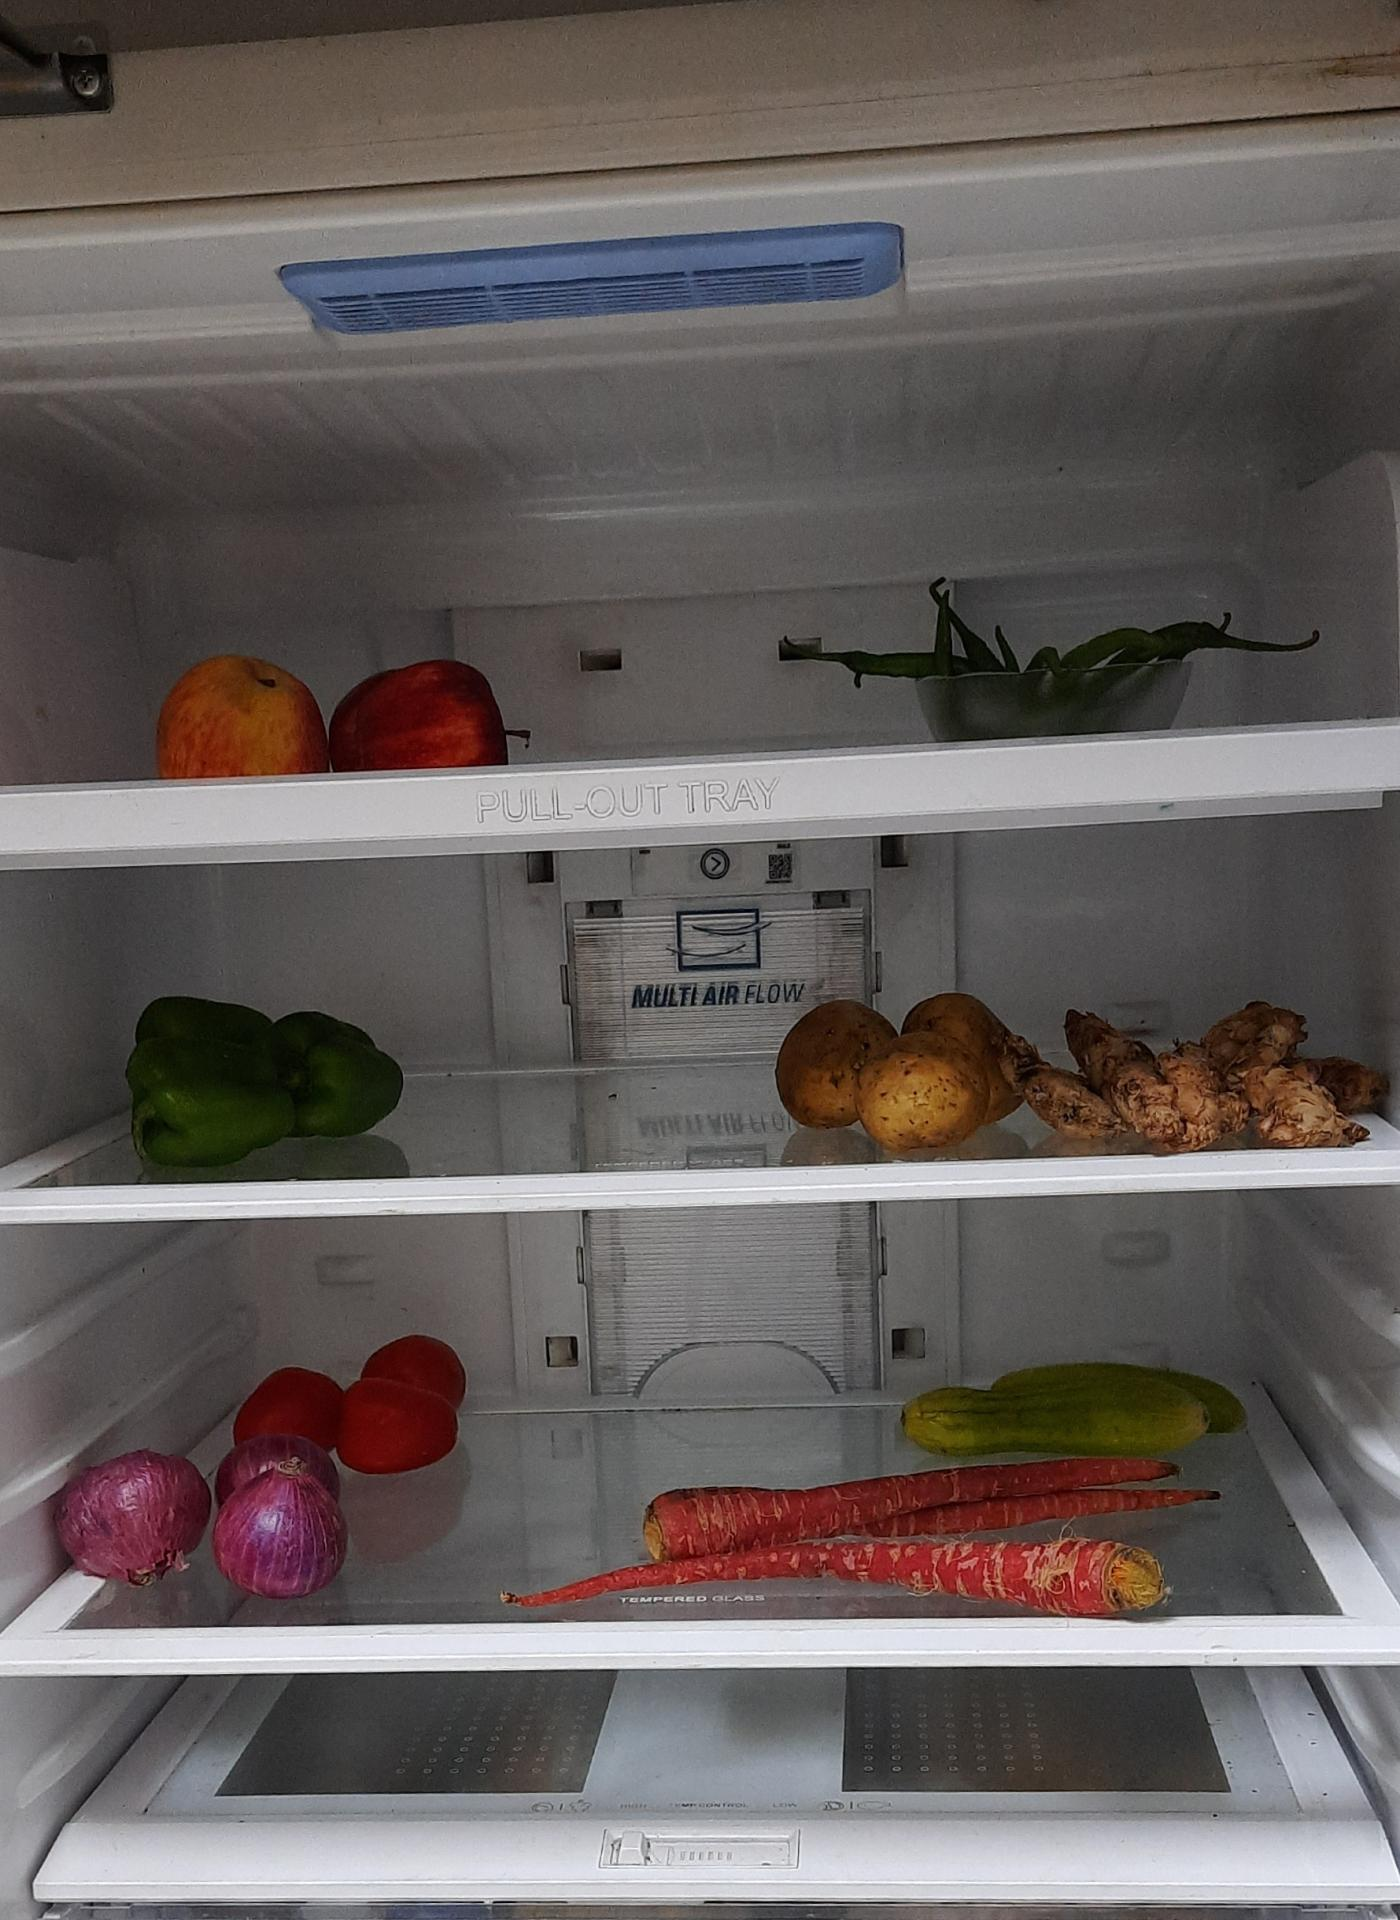apple: (154, 644, 529, 784)
capsicum: (118, 984, 413, 1176)
carrots: (504, 1468, 1191, 1608)
chillies: (829, 581, 1328, 735)
cucumber: (898, 1361, 1249, 1462)
ginger: (1035, 1020, 1400, 1163)
onion: (55, 1439, 344, 1592)
potato: (778, 991, 1038, 1145)
tomato: (231, 1336, 465, 1476)
